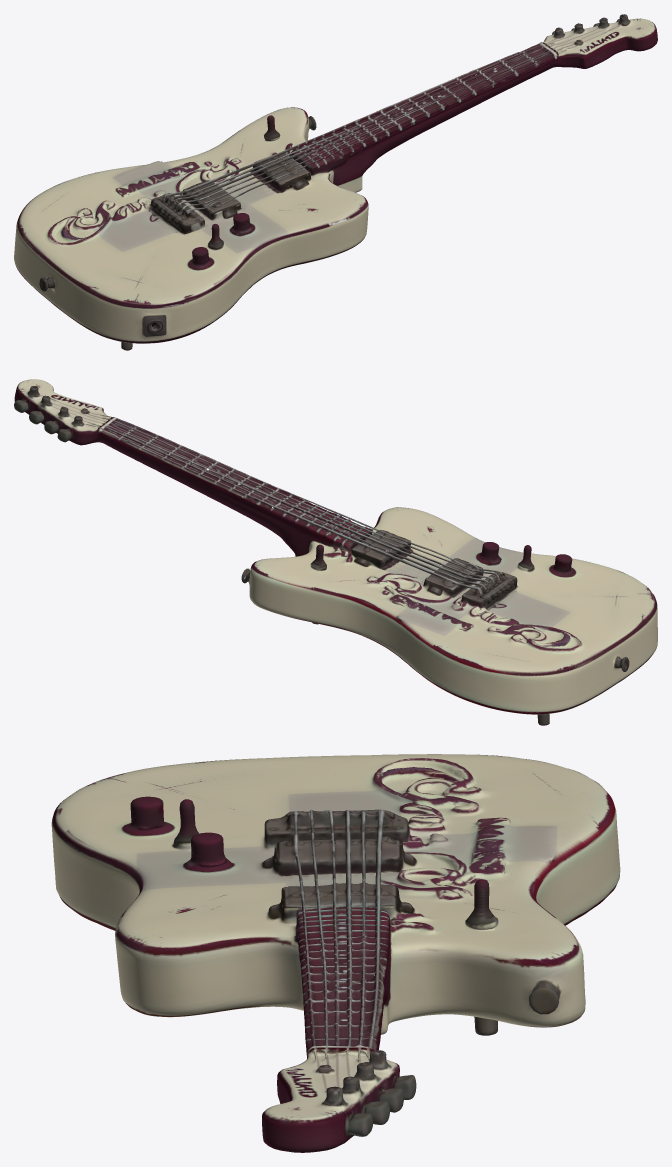
Rendered from guitar.glb.
The picture shows the model from 3 angles, top to bottom: view 1: azimuth 30°, elevation 25°; view 2: azimuth 150°, elevation 25°; view 3: azimuth 270°, elevation 25°; orthographic projection. The views are drawn at different scales.
Visible parts, largest first — view 1: tripo_node_91d9a6b4; view 2: tripo_node_91d9a6b4; view 3: tripo_node_91d9a6b4.
Part boxes in pixels (x1=…): tripo_node_91d9a6b4: x1=14, y1=14, x2=657, y2=350; tripo_node_91d9a6b4: x1=14, y1=379, x2=657, y2=725; tripo_node_91d9a6b4: x1=51, y1=754, x2=620, y2=1152.
Size of the model in its own units: 97.9 by 26.09 by 39.92.
1 material, 1 textured.
